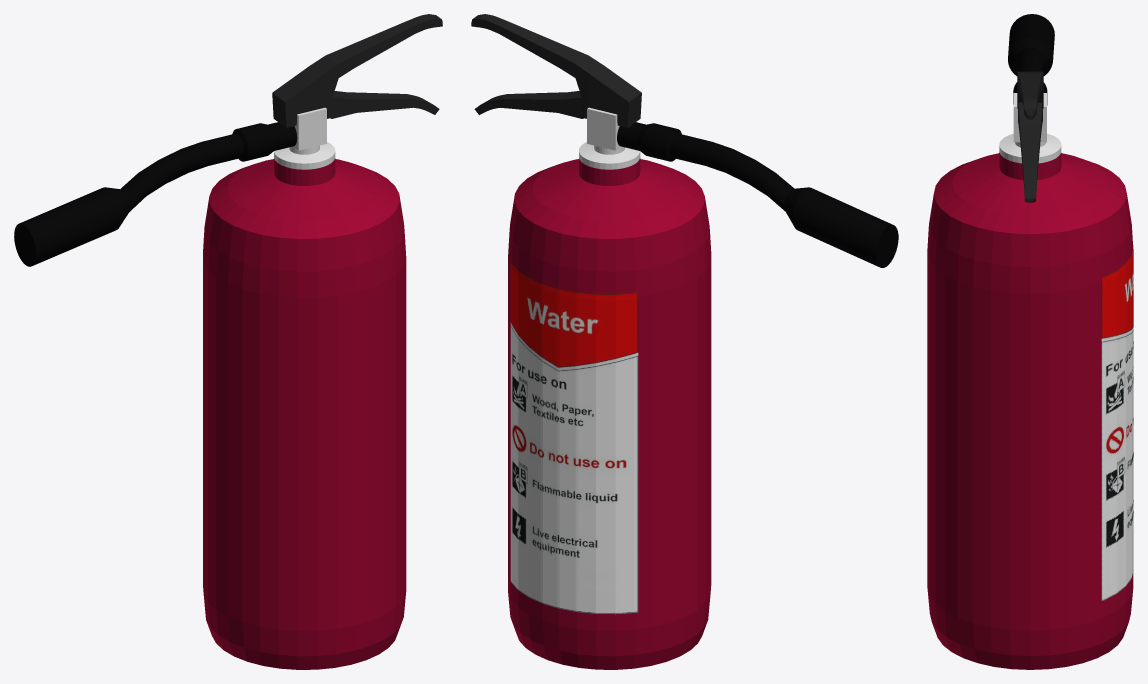
Rendered from fireex_water.fbx.
3 renders of one model, left to right at view 1: azimuth 30°, elevation 25°; view 2: azimuth 150°, elevation 25°; view 3: azimuth 270°, elevation 25°, orthographic.
Parts seen in each view (by area): view 1: Can; view 2: Can; view 3: Can.
Part boxes in pixels (x1,y1,x2,y2): Can: (14, 14, 442, 669); Can: (471, 14, 898, 669); Can: (927, 14, 1133, 669).
Bounding box in the file's own units: 720 × 970 × 305.
